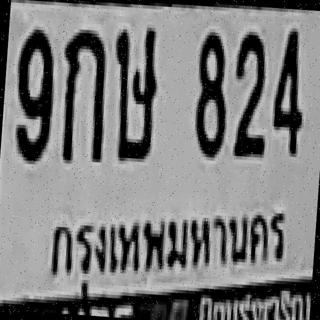A01: (56, 23, 108, 160)
A39: (107, 22, 162, 160)
N02: (230, 29, 272, 156)
N04: (270, 24, 308, 154)
N08: (191, 28, 231, 155)
N09: (10, 25, 56, 158)
P04: (41, 198, 291, 291)
